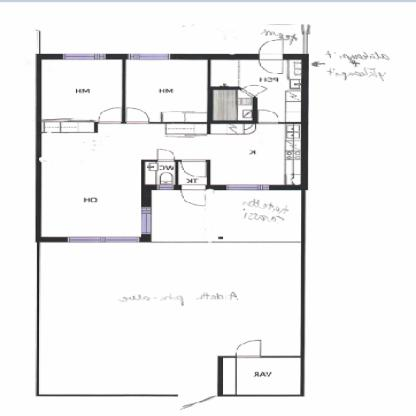door: (255, 40, 286, 76), (179, 158, 212, 180), (178, 184, 208, 206), (235, 338, 265, 359), (259, 108, 287, 128), (126, 107, 150, 129), (98, 108, 124, 126), (241, 83, 267, 97), (159, 149, 173, 163)
window: (70, 236, 138, 246), (130, 51, 170, 60), (142, 206, 154, 233), (61, 53, 106, 59), (223, 185, 269, 190), (157, 184, 172, 190)
zone: (35, 241, 298, 396), (40, 122, 298, 241), (154, 190, 303, 242), (211, 61, 299, 121), (123, 60, 207, 121), (42, 59, 120, 121), (217, 357, 300, 394)
